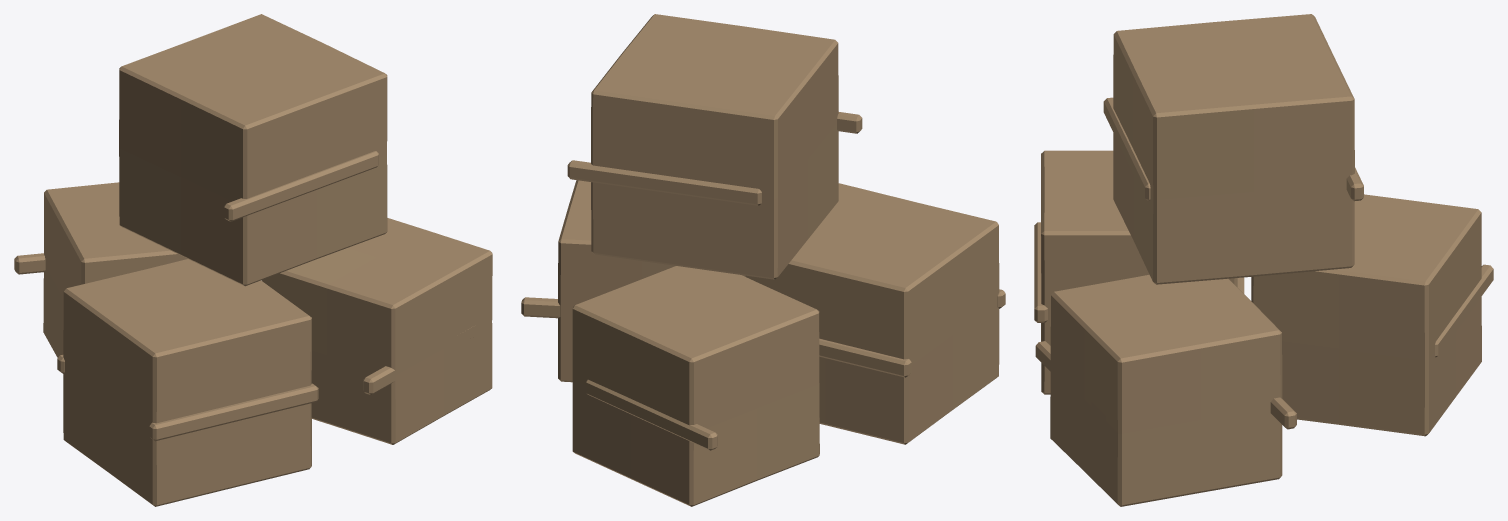
File: p_crates.glb
The picture shows the model from 3 angles, left to right: view 1: azimuth 30°, elevation 25°; view 2: azimuth 150°, elevation 25°; view 3: azimuth 270°, elevation 25°; orthographic projection. The views are drawn at different scales.
Parts seen in each view (by area): view 1: crates; view 2: crates; view 3: crates.
Boxes of the visible parts, box(x1,y1,x2,y2) form: crates: box(14, 14, 492, 506); crates: box(521, 14, 1005, 506); crates: box(1034, 14, 1493, 506).
Size of the model in its own units: 1.73 by 1.42 by 1.7.
